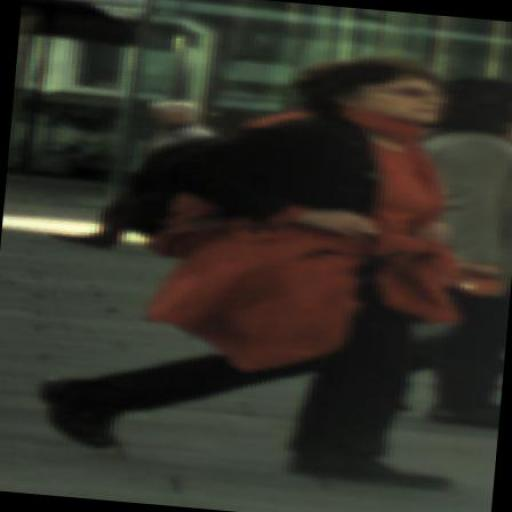person: (179, 47, 500, 504), (352, 74, 511, 473)
